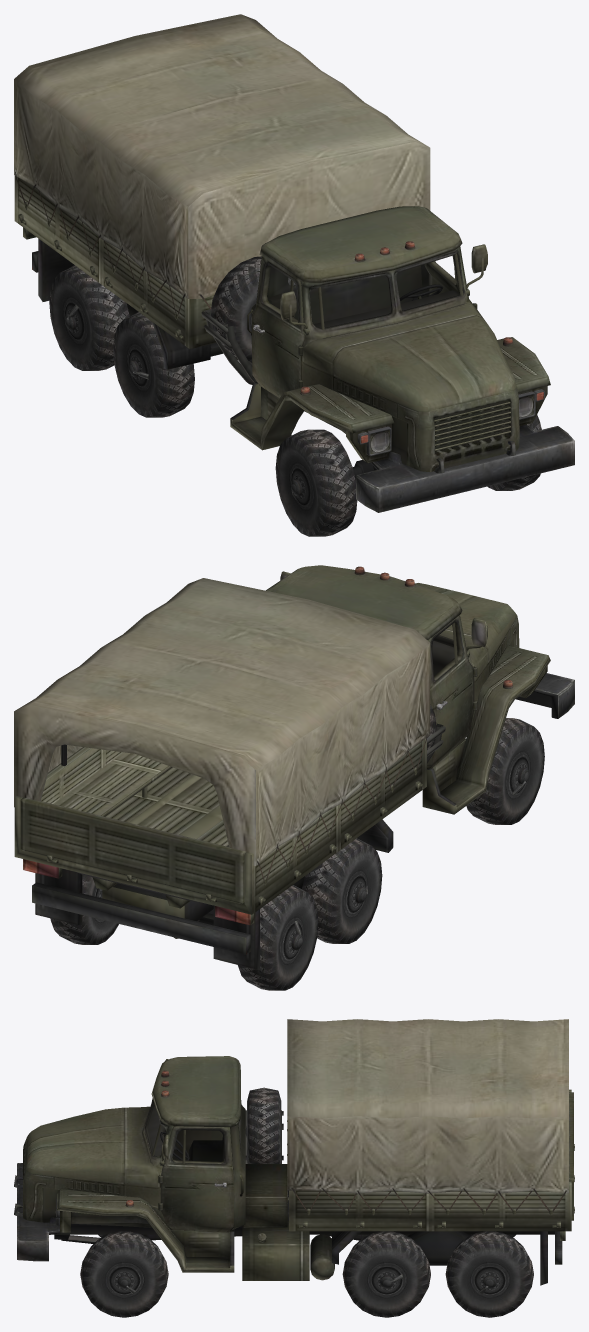
File: truck.glb
3 views of the same model, one above another, from view 1: azimuth 30°, elevation 25°; view 2: azimuth 150°, elevation 25°; view 3: azimuth 270°, elevation 25° (orthographic). The views are drawn at different scales.
Visible parts, largest first — view 1: m; view 2: m; view 3: m.
Boxes of the visible parts, x1,y1,x2,y2 form: m: (14, 14, 574, 536); m: (14, 565, 574, 990); m: (14, 1019, 574, 1317).
Size of the model in its own units: 3.06 by 3.27 by 7.57.
Materials: 1 (1 with a texture image).
